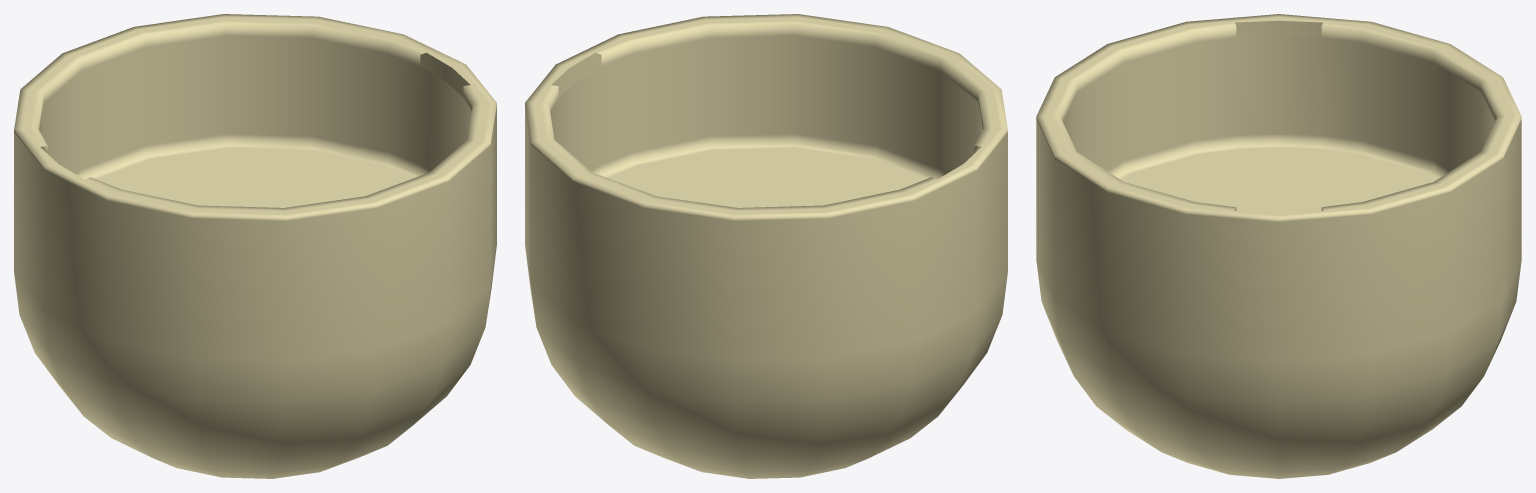
File: cuphead.fbx
3 views of the same model, side by side, from view 1: azimuth 30°, elevation 25°; view 2: azimuth 150°, elevation 25°; view 3: azimuth 270°, elevation 25° (orthographic).
Parts seen in each view (by area): view 1: CupHEAD.001; view 2: CupHEAD.001; view 3: CupHEAD.001.
Boxes of the visible parts, left/top/right/bottom form: CupHEAD.001: left=14, top=14, right=496, bottom=478; CupHEAD.001: left=525, top=14, right=1007, bottom=478; CupHEAD.001: left=1036, top=14, right=1521, bottom=478.
Size of the model in its own units: 38.81 by 29.43 by 38.81.
